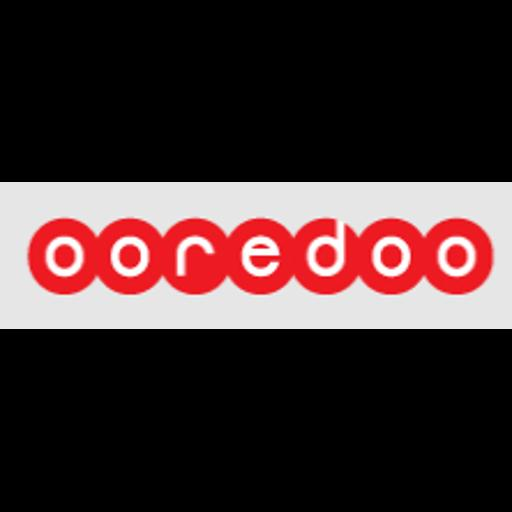Ooredoo QSC: (0, 182, 512, 329)
